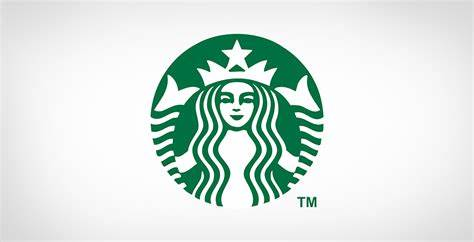starbucks Originale: (141, 25, 333, 213)
